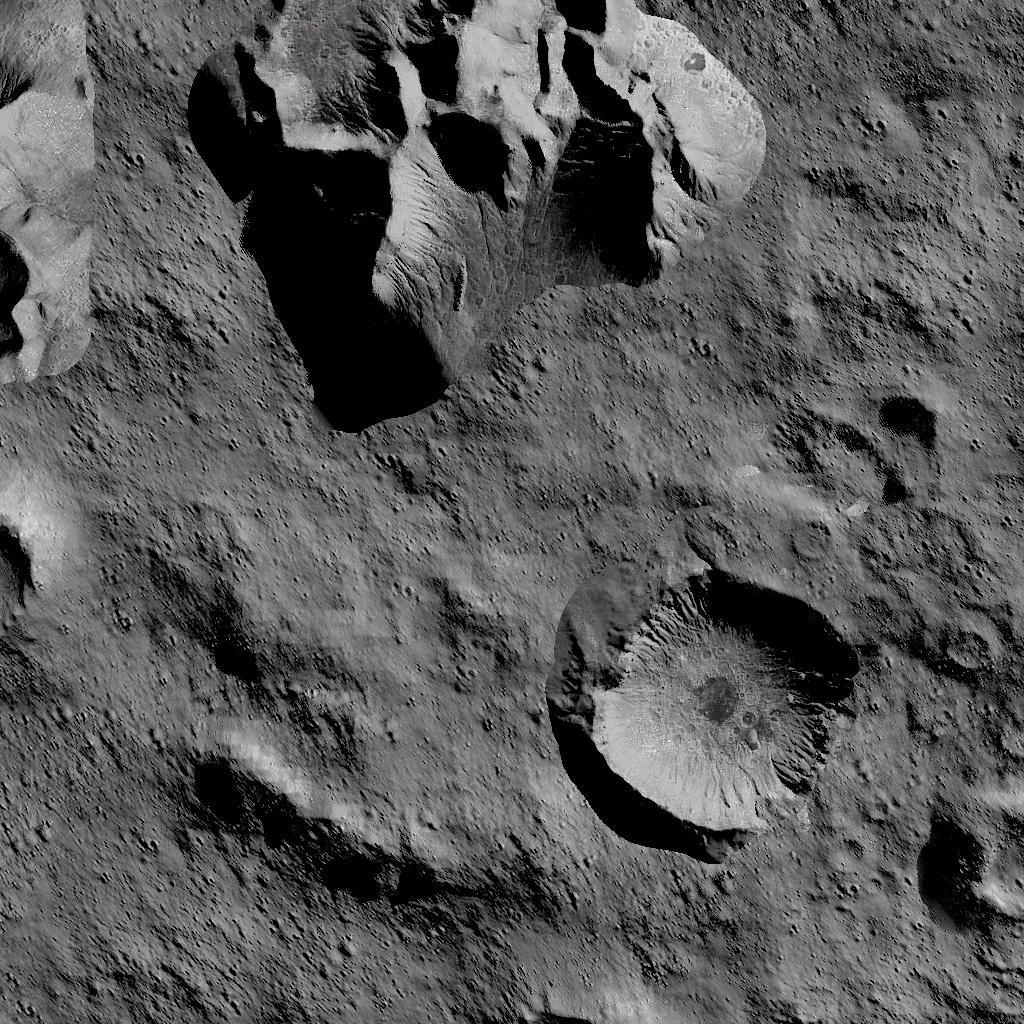Boulders: (194, 0, 762, 433), (185, 739, 568, 921), (0, 0, 101, 388)
Crater: (582, 564, 865, 840), (911, 790, 1024, 932), (0, 508, 50, 656), (494, 994, 604, 1024)
Plan surface: (187, 442, 570, 730), (774, 0, 1024, 376), (0, 667, 175, 1024), (618, 849, 902, 1024), (187, 931, 483, 1024)
